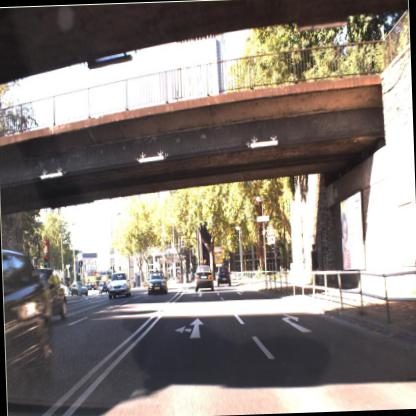danger: (263, 217, 279, 242)
